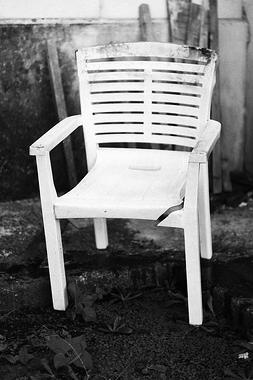obstacle: (30, 42, 220, 324)
